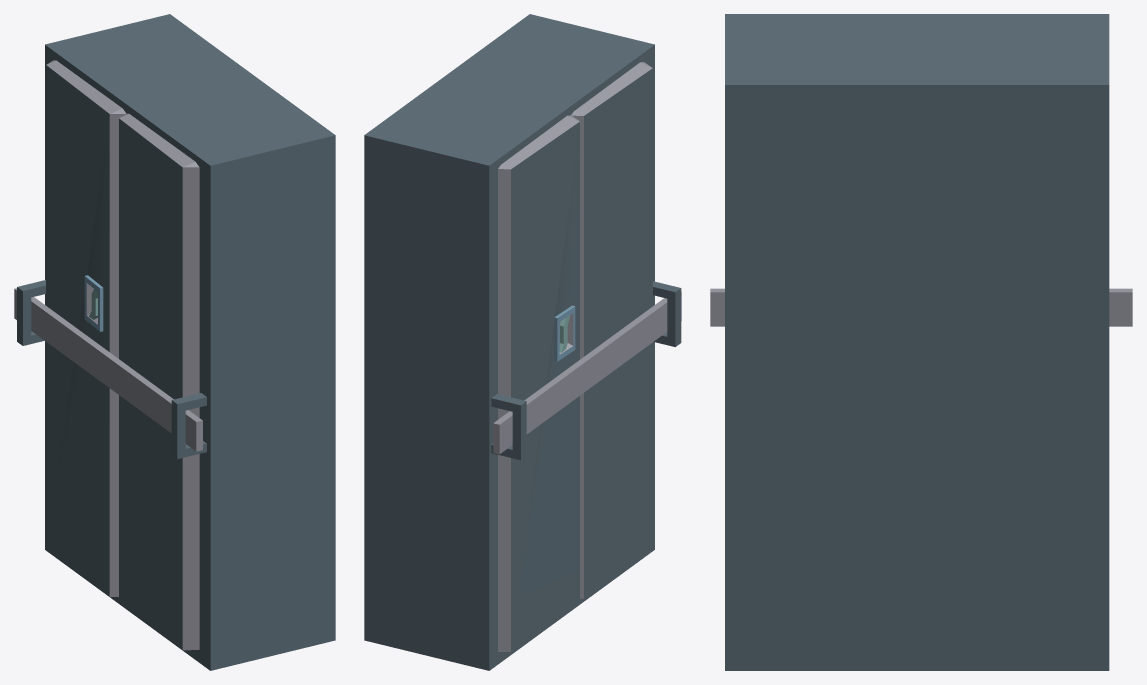
File: Locker_Steel_Sealed.fbx
3 renders of one model, left to right at view 1: azimuth 30°, elevation 25°; view 2: azimuth 150°, elevation 25°; view 3: azimuth 270°, elevation 25°, orthographic. The views are drawn at different scales.
Visible parts, largest first — view 1: pCube36; view 2: pCube36; view 3: pCube36.
Boxes of the visible parts, x1=… form: pCube36: x1=14, y1=14, x2=335, y2=670; pCube36: x1=364, y1=14, x2=681, y2=670; pCube36: x1=710, y1=14, x2=1132, y2=670.
Bounding box in the file's own units: 69.76 × 218 × 142.
